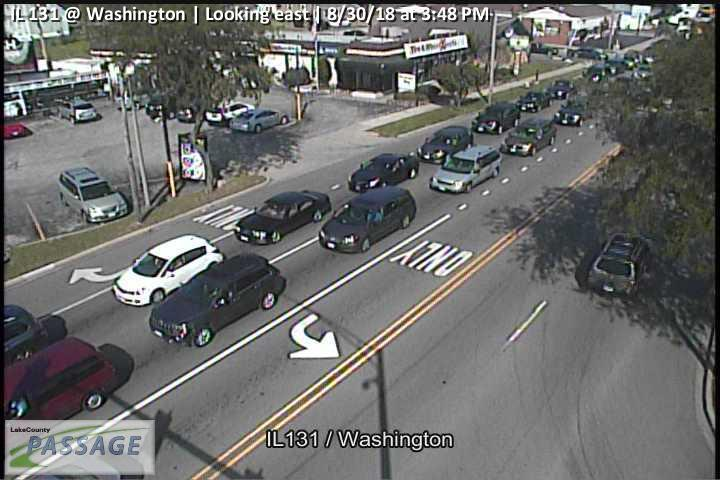SUV: (148, 253, 286, 347), (1, 336, 121, 440), (319, 184, 417, 255), (584, 231, 652, 297), (56, 166, 128, 223), (428, 143, 504, 194), (57, 95, 100, 124)
Sedan: (110, 233, 223, 308), (230, 189, 330, 246), (346, 151, 420, 193), (417, 123, 474, 165), (499, 118, 559, 157), (473, 99, 520, 135), (229, 108, 289, 134), (553, 98, 595, 127), (205, 101, 256, 124), (516, 89, 549, 113), (546, 78, 578, 99)
